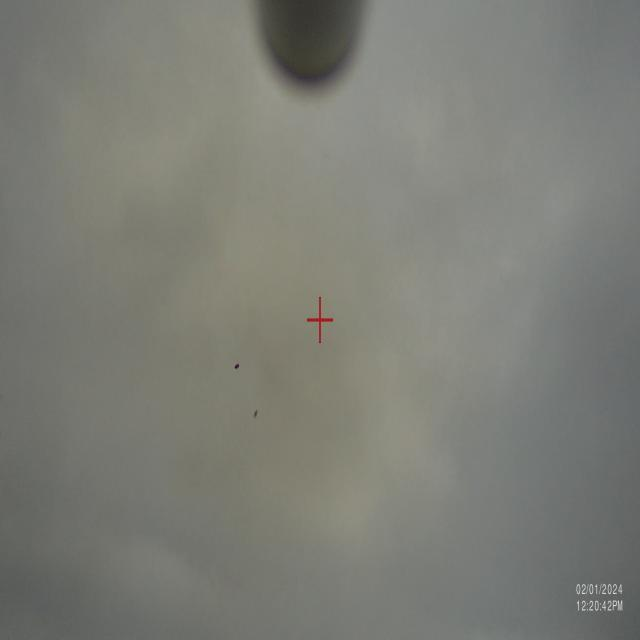entire: (228, 361, 246, 374)
